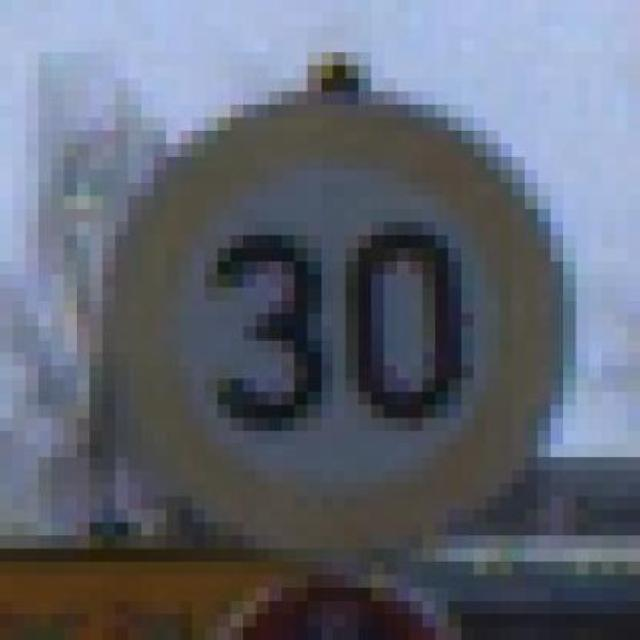Speed Limit 30 KMPh: (77, 91, 628, 574)
